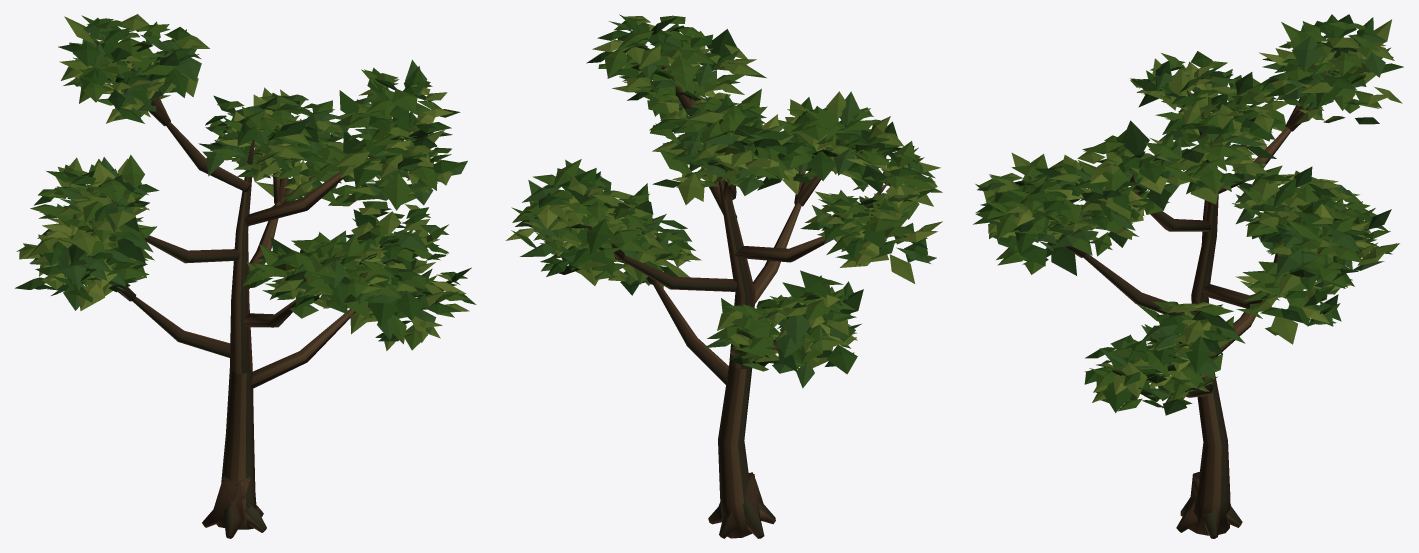
The model's file is Beech_Sapling_01.fbx.
3 renders of one model, left to right at view 1: azimuth 30°, elevation 25°; view 2: azimuth 150°, elevation 25°; view 3: azimuth 270°, elevation 25°, orthographic.
Visible parts, largest first — view 1: Beech_Sapling_01_LOD0.001; view 2: Beech_Sapling_01_LOD0.001; view 3: Beech_Sapling_01_LOD0.001.
Part boxes in pixels (left/top/right/bottom): Beech_Sapling_01_LOD0.001: left=15, top=14, right=476, bottom=538; Beech_Sapling_01_LOD0.001: left=505, top=14, right=942, bottom=538; Beech_Sapling_01_LOD0.001: left=973, top=14, right=1403, bottom=538.
Size of what is drawn, in the model's own units: 6.48 by 7.5 by 6.12.
